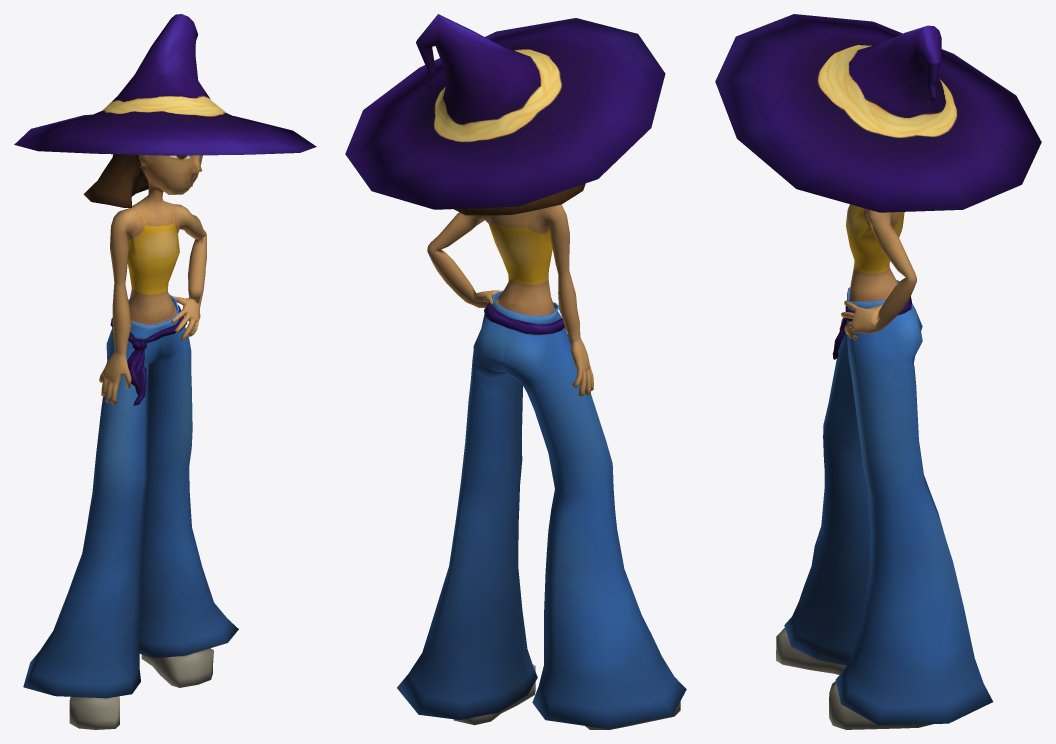
File: impulsive.glb
3 renders of one model, left to right at view 1: azimuth 30°, elevation 25°; view 2: azimuth 150°, elevation 25°; view 3: azimuth 270°, elevation 25°, orthographic. The views are drawn at different scales.
Visible parts, largest first — view 1: Object_2; view 2: Object_2; view 3: Object_2.
Part boxes in pixels (x1,y1,x2,y2): Object_2: (14,14,316,729); Object_2: (345,14,686,729); Object_2: (715,14,1041,729).
Size of the model in its own units: 82.79 by 182 by 75.96.
Materials: 1 (1 with a texture image).
